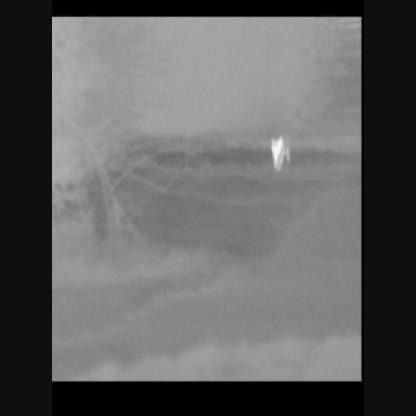rehkitze: (266, 137, 291, 173)
